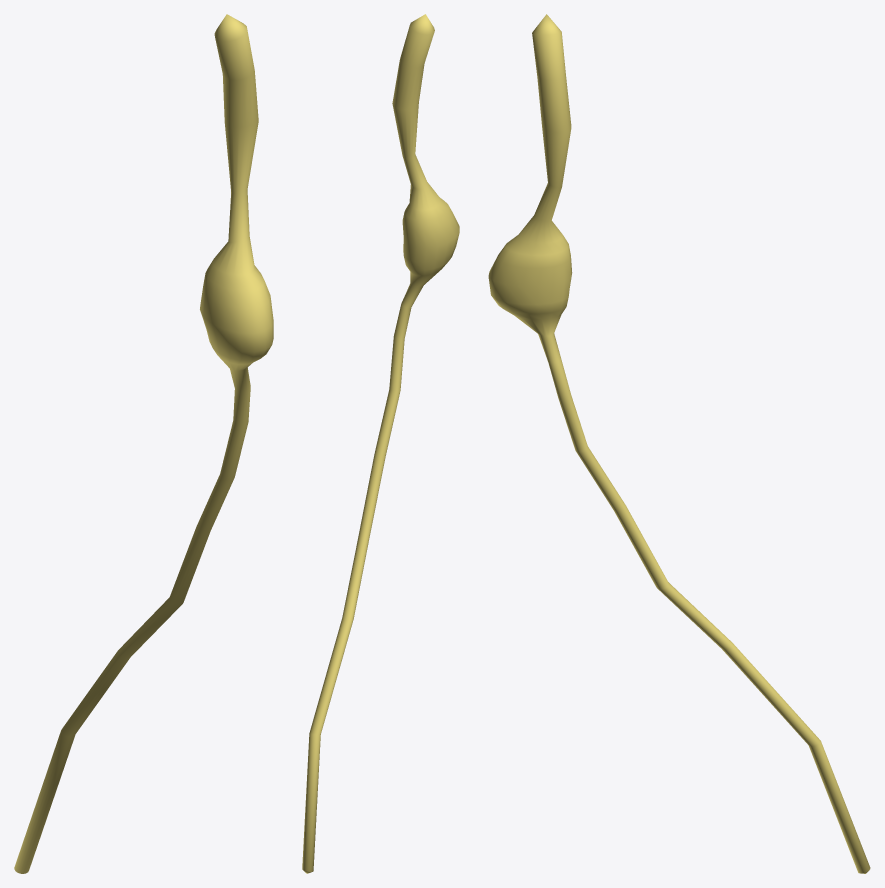
File: sensory-root-of-trigeminal-nerve-l.glb
3 views of the same model, side by side, from view 1: azimuth 30°, elevation 25°; view 2: azimuth 150°, elevation 25°; view 3: azimuth 270°, elevation 25° (orthographic). The views are drawn at different scales.
Parts seen in each view (by area): view 1: Sensory root of trigeminal nerve.l; view 2: Sensory root of trigeminal nerve.l; view 3: Sensory root of trigeminal nerve.l.
Boxes of the visible parts, x1,y1,x2,y2 form: Sensory root of trigeminal nerve.l: (14, 14, 273, 873); Sensory root of trigeminal nerve.l: (302, 14, 459, 873); Sensory root of trigeminal nerve.l: (488, 14, 870, 873).
Size of the model in its own units: 0.00482 by 0.0671 by 0.0267.
